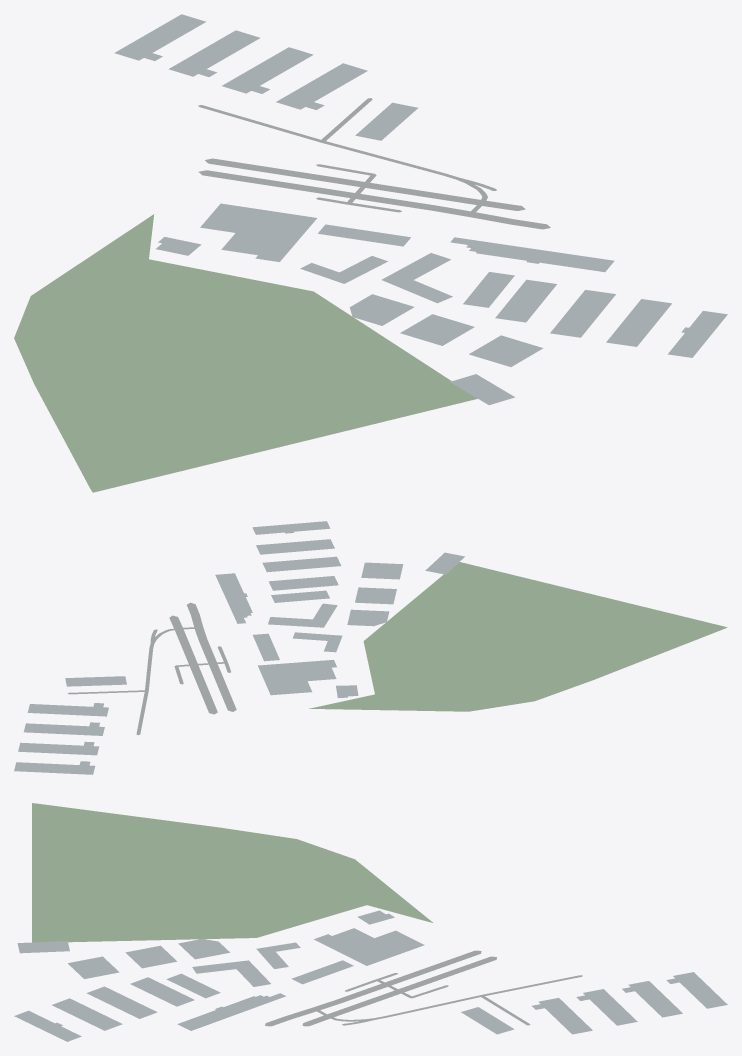
File: -11_11-known-coarse.glb
3 views of the same model, one above another, from view 1: azimuth 30°, elevation 25°; view 2: azimuth 150°, elevation 25°; view 3: azimuth 270°, elevation 25° (orthographic). The views are drawn at different scales.
Size of the model in its own units: 410 by 0.15 by 517.
